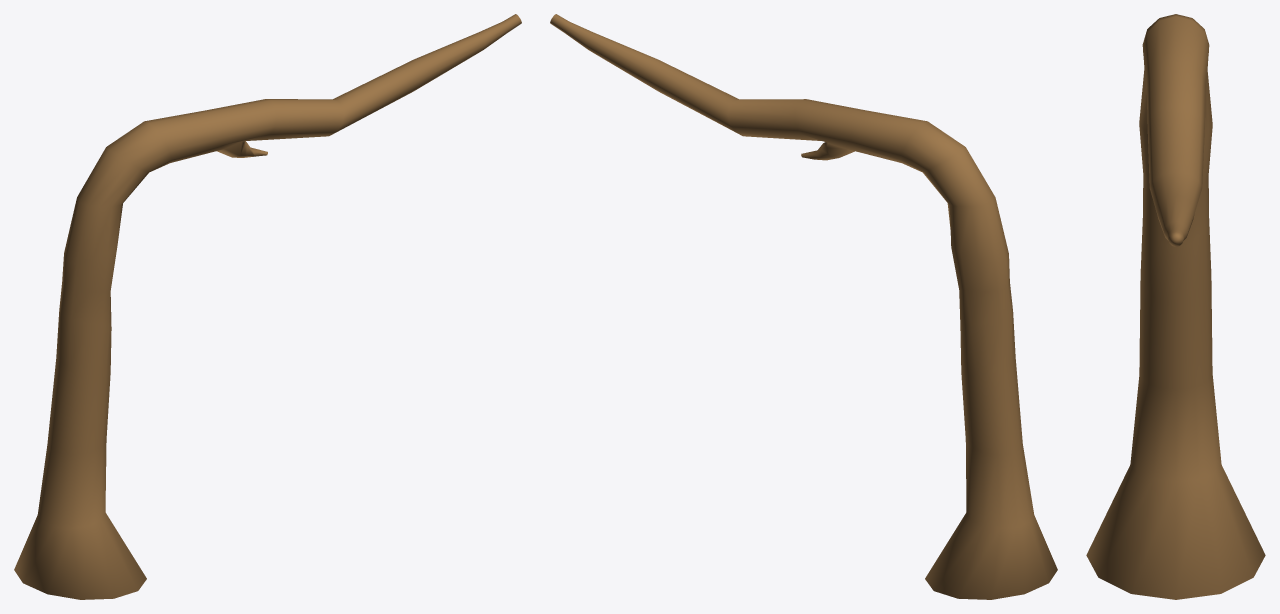
The model's file is avorerandom_lv3.fbx.
3 renders of one model, left to right at view 1: azimuth 30°, elevation 25°; view 2: azimuth 150°, elevation 25°; view 3: azimuth 270°, elevation 25°, orthographic. The views are drawn at different scales.
Parts seen in each view (by area): view 1: outraarvorerandom; view 2: outraarvorerandom; view 3: outraarvorerandom.
Part boxes in pixels (<box>): outraarvorerandom: <box>14,14,521,599</box>; outraarvorerandom: <box>550,14,1057,599</box>; outraarvorerandom: <box>1086,14,1265,599</box>.
Size of the model in its own units: 4.66 by 4.11 by 1.08.
